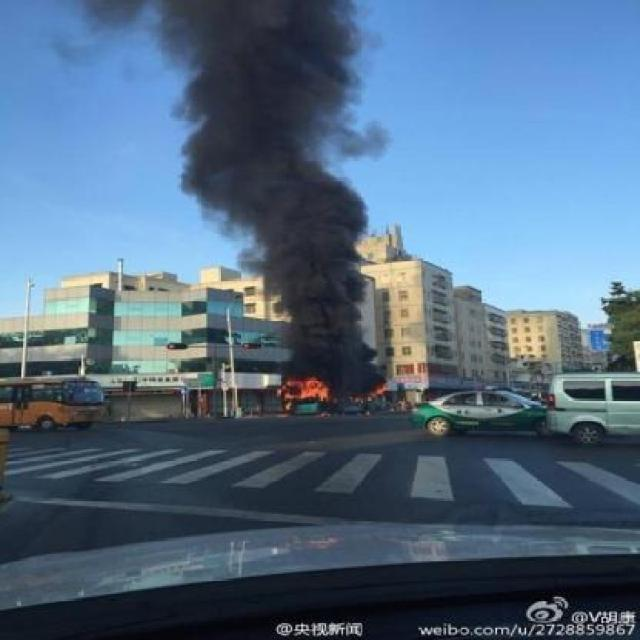Fire: (279, 376, 387, 418)
Smoke: (160, 4, 388, 369)
